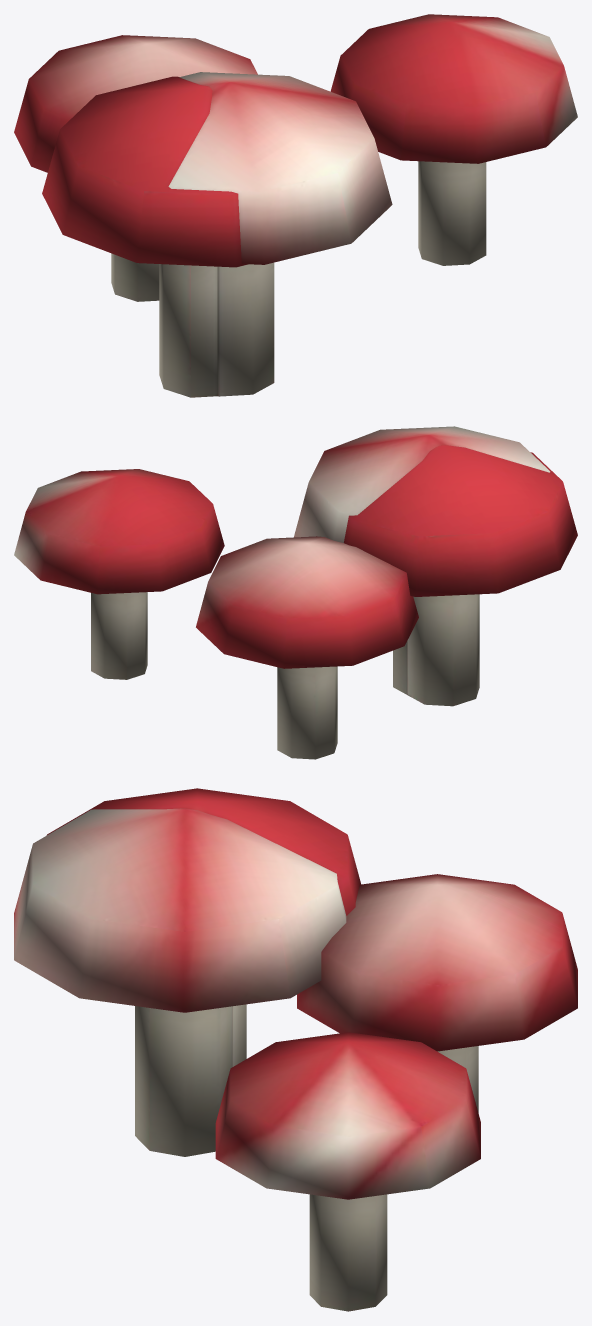
The model's file is mushrooms.glb.
3 renders of one model, top to bottom at view 1: azimuth 30°, elevation 25°; view 2: azimuth 150°, elevation 25°; view 3: azimuth 270°, elevation 25°, orthographic. The views are drawn at different scales.
Parts seen in each view (by area): view 1: mushrooms; view 2: mushrooms; view 3: mushrooms.
Boxes of the visible parts, x1,y1,x2,y2 form: mushrooms: (14,14,577,397); mushrooms: (14,426,577,759); mushrooms: (14,788,577,1311).
Bounding box in the file's own units: 0.846 × 0.4208 × 0.6602.
2 materials, 2 textured.
